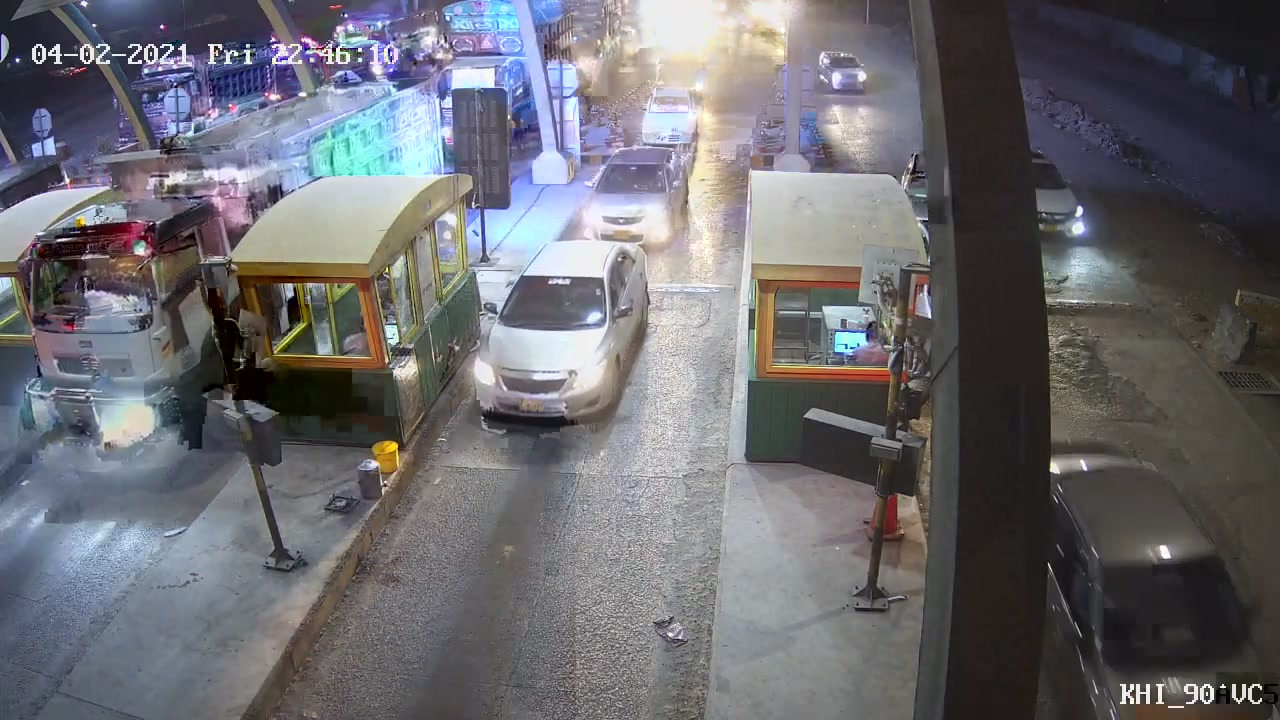F1: (469, 239, 656, 422)
